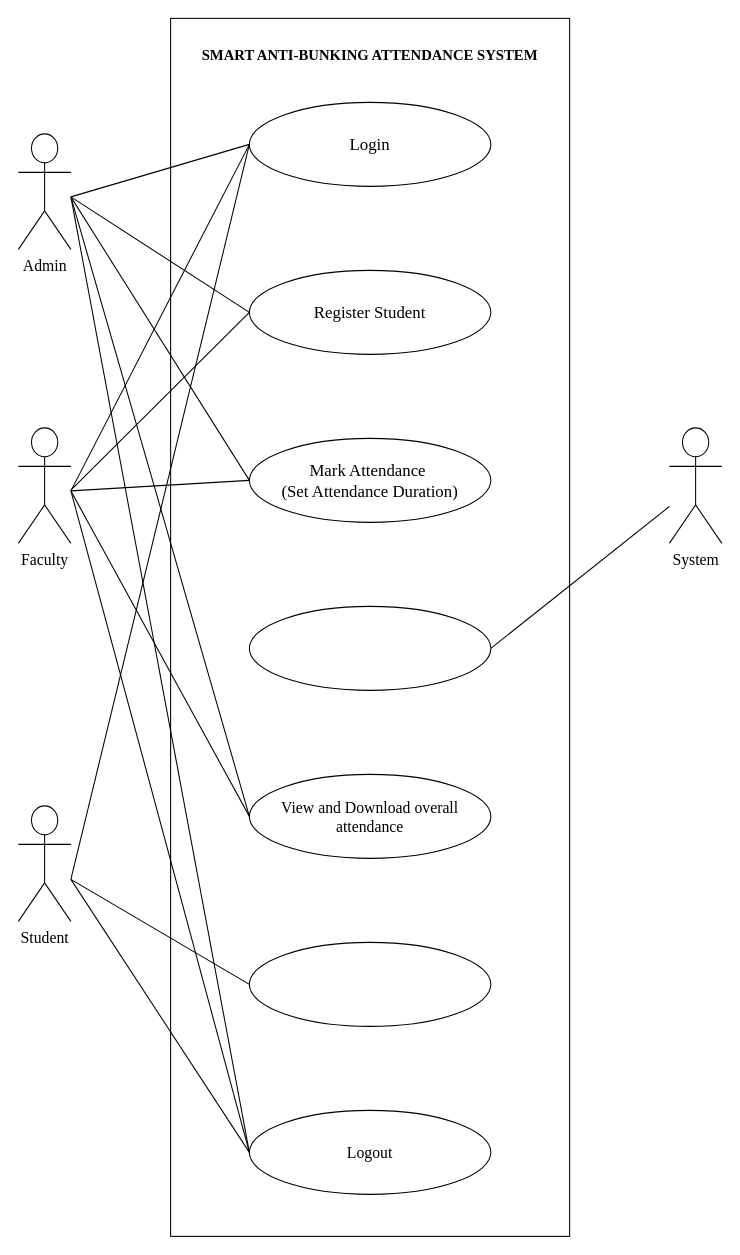
Image size: 740x1255. Some labels were removed from this diagram. The centre of each missing label's shape, as x and y in pixels:
"Trigger WhatsApp Alerts for Absentees" goes at (x=369, y=647).
"View Personal Attendance" goes at (x=369, y=983).
